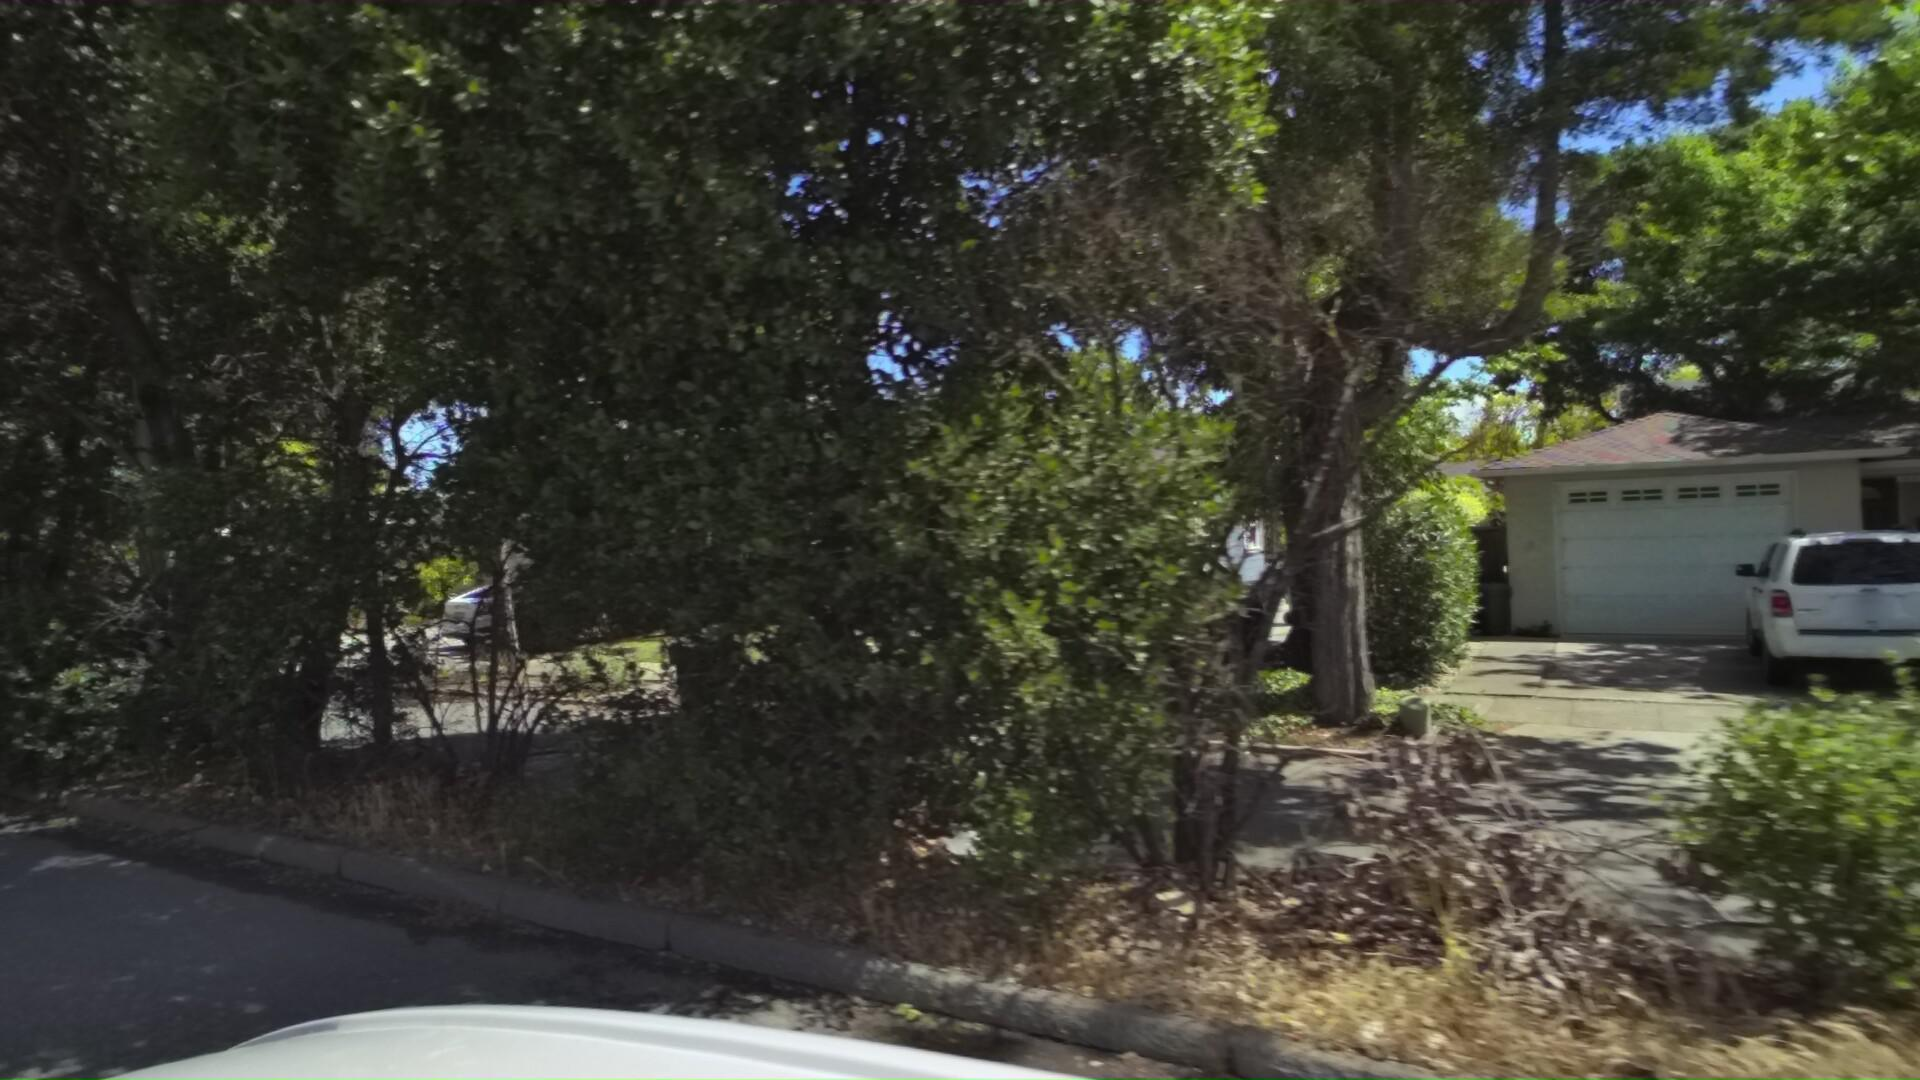car: (1064, 531, 1309, 702), (1771, 512, 1920, 716), (433, 560, 663, 657)
